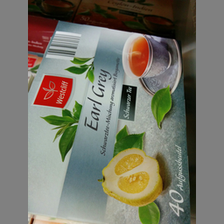tea: (28, 20, 190, 223)
